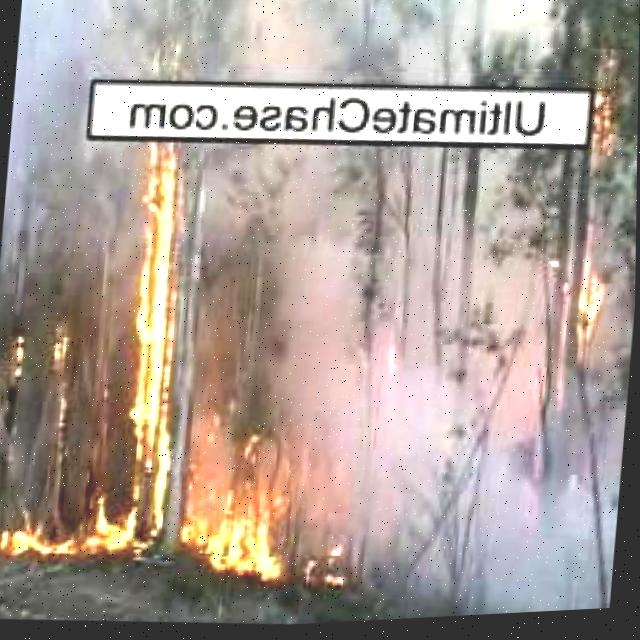Fire: (0, 465, 316, 595), (121, 141, 193, 484), (591, 74, 639, 185), (560, 265, 611, 355), (42, 325, 80, 386), (9, 319, 31, 385)
Smoke: (189, 130, 595, 437), (315, 407, 626, 627), (139, 0, 576, 105), (0, 0, 93, 291)
